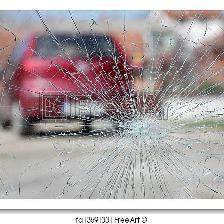broken_glass: (0, 10, 224, 198)
